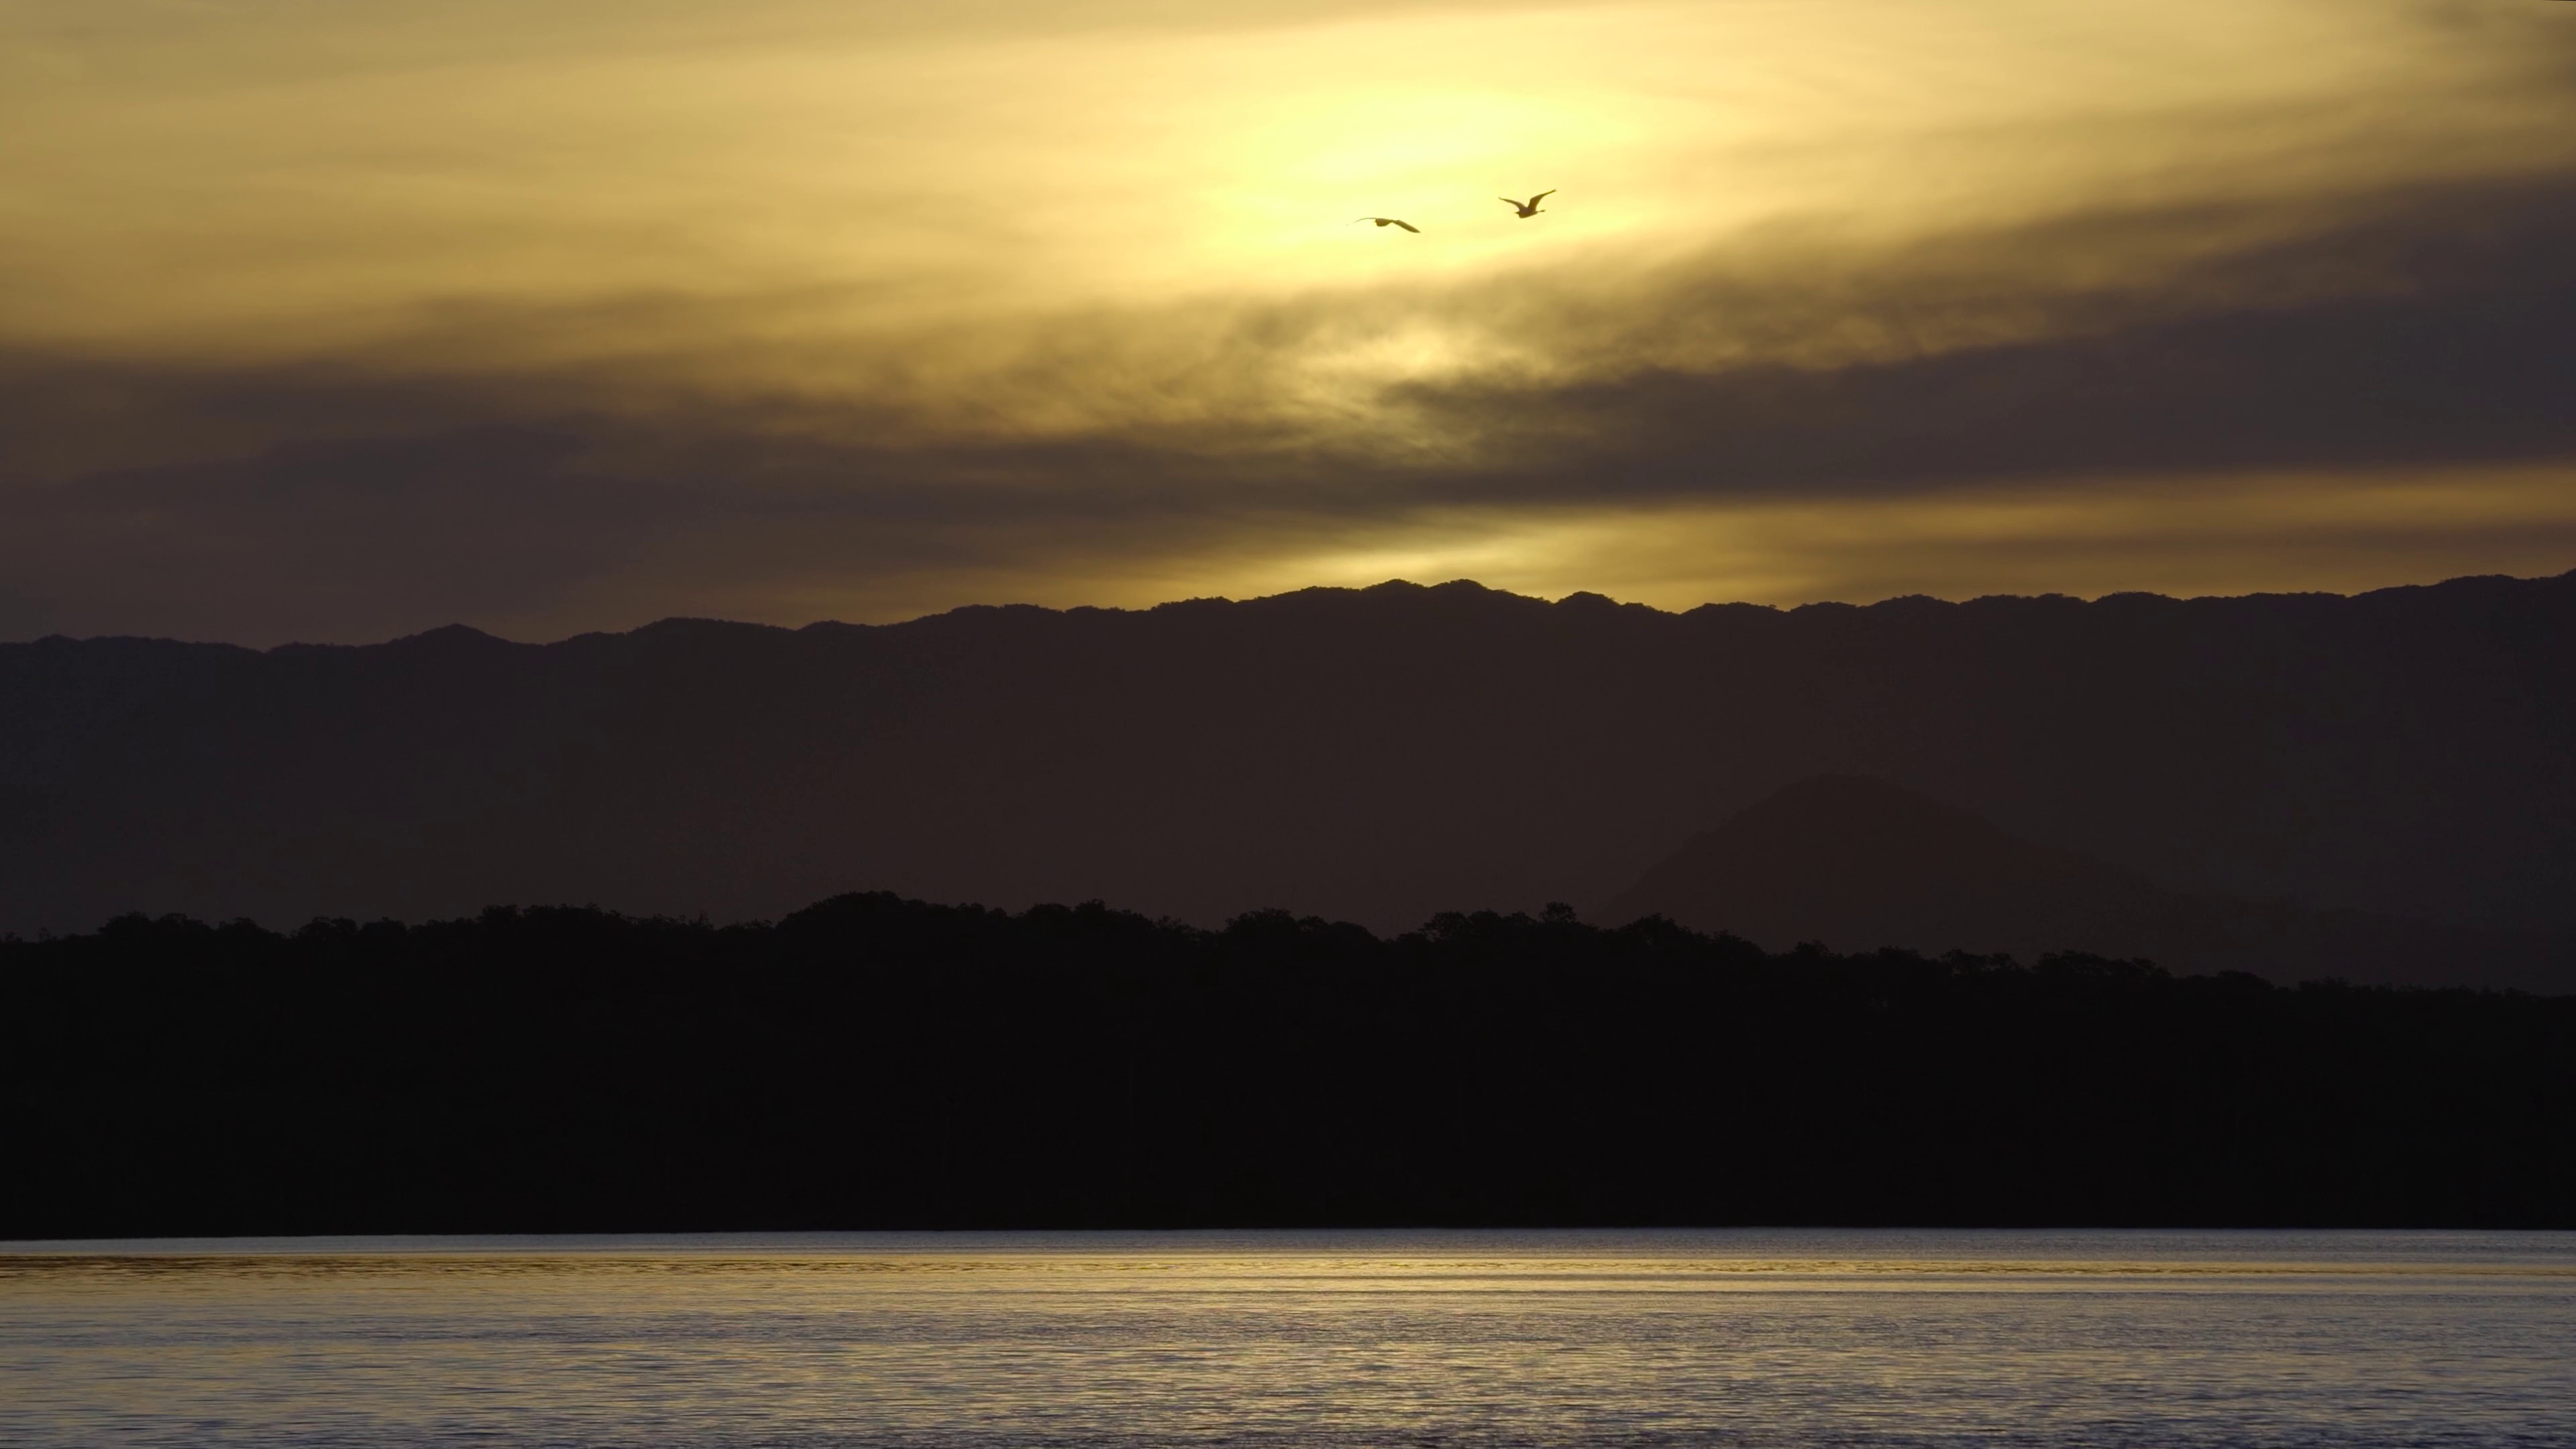bird: (1502, 186, 1557, 218), (1350, 214, 1421, 235)
